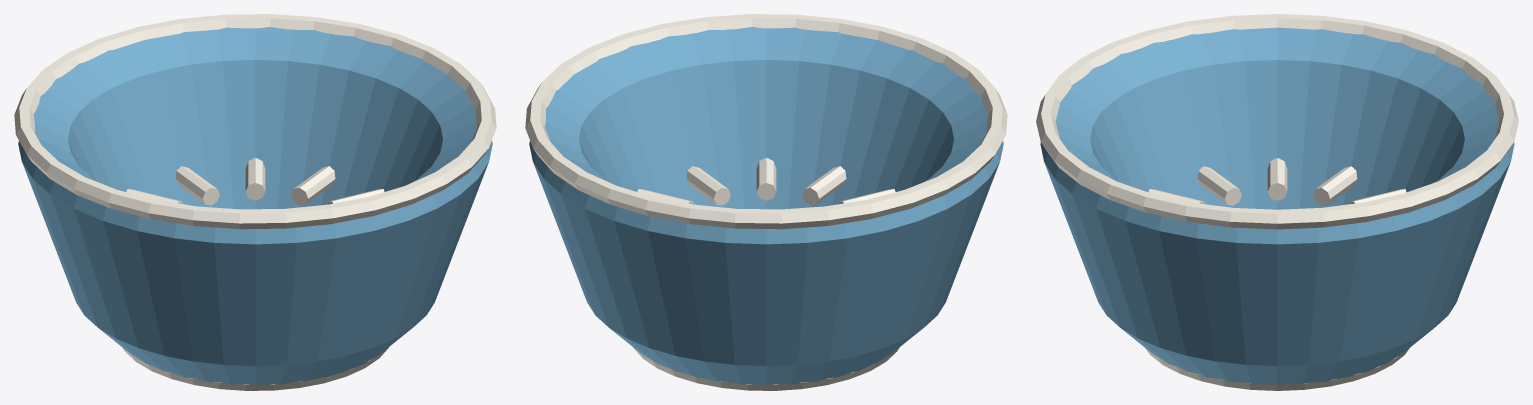
File: kitchen_ochoko.glb
The picture shows the model from 3 angles, left to right: view 1: azimuth 30°, elevation 25°; view 2: azimuth 150°, elevation 25°; view 3: azimuth 270°, elevation 25°; orthographic projection.
Parts seen in each view (by area): view 1: Ochoko footed shallow sake bowl, Ochoko fine porcelain lip, Foot ring, Interior brushstroke1, Interior brushstroke3, Interior brushstroke2; view 2: Ochoko footed shallow sake bowl, Ochoko fine porcelain lip, Foot ring, Interior brushstroke9, Interior brushstroke11, Interior brushstroke10; view 3: Ochoko footed shallow sake bowl, Ochoko fine porcelain lip, Foot ring, Interior brushstroke5, Interior brushstroke7, Interior brushstroke6.
Boxes of the visible parts, <box> form: Ochoko footed shallow sake bowl: <box>18,27,492,385</box>; Ochoko fine porcelain lip: <box>14,14,496,229</box>; Foot ring: <box>122,347,388,390</box>; Interior brushstroke1: <box>291,166,335,205</box>; Interior brushstroke3: <box>175,166,219,205</box>; Interior brushstroke2: <box>245,157,265,200</box>; Ochoko footed shallow sake bowl: <box>529,27,1003,385</box>; Ochoko fine porcelain lip: <box>525,14,1007,229</box>; Foot ring: <box>633,347,899,390</box>; Interior brushstroke9: <box>802,166,846,205</box>; Interior brushstroke11: <box>686,166,730,205</box>; Interior brushstroke10: <box>756,157,776,200</box>; Ochoko footed shallow sake bowl: <box>1040,27,1514,384</box>; Ochoko fine porcelain lip: <box>1036,14,1518,229</box>; Foot ring: <box>1145,348,1409,390</box>; Interior brushstroke5: <box>1313,166,1357,205</box>; Interior brushstroke7: <box>1197,166,1241,205</box>; Interior brushstroke6: <box>1267,158,1287,200</box>.
Bounding box in the file's own units: 1.95 × 0.9919 × 1.95.
